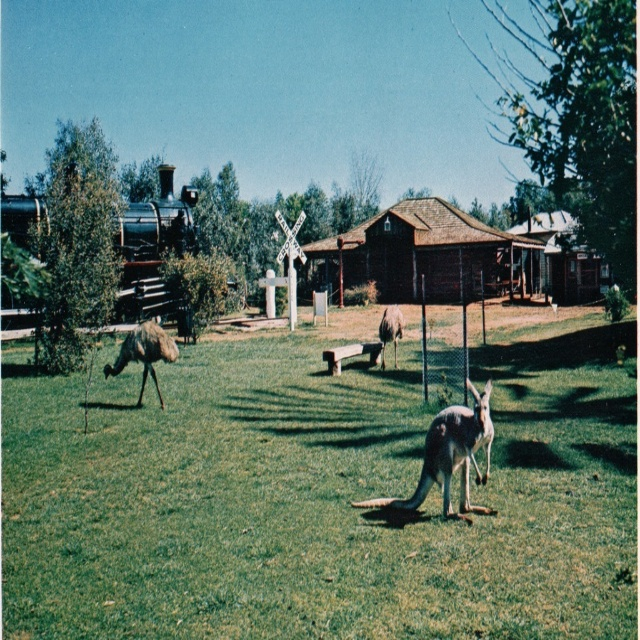Kangaroo: (349, 376, 495, 527)
